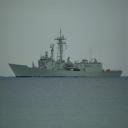Fragata: (9, 27, 124, 80)
